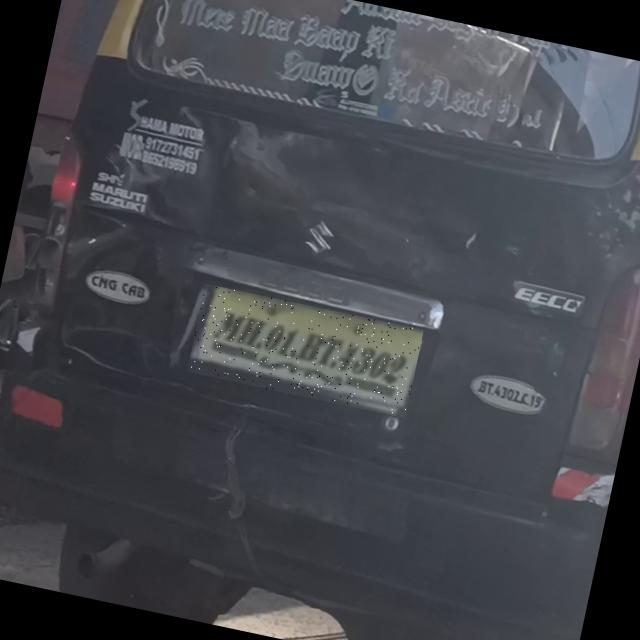Plate: (188, 285, 425, 419)
